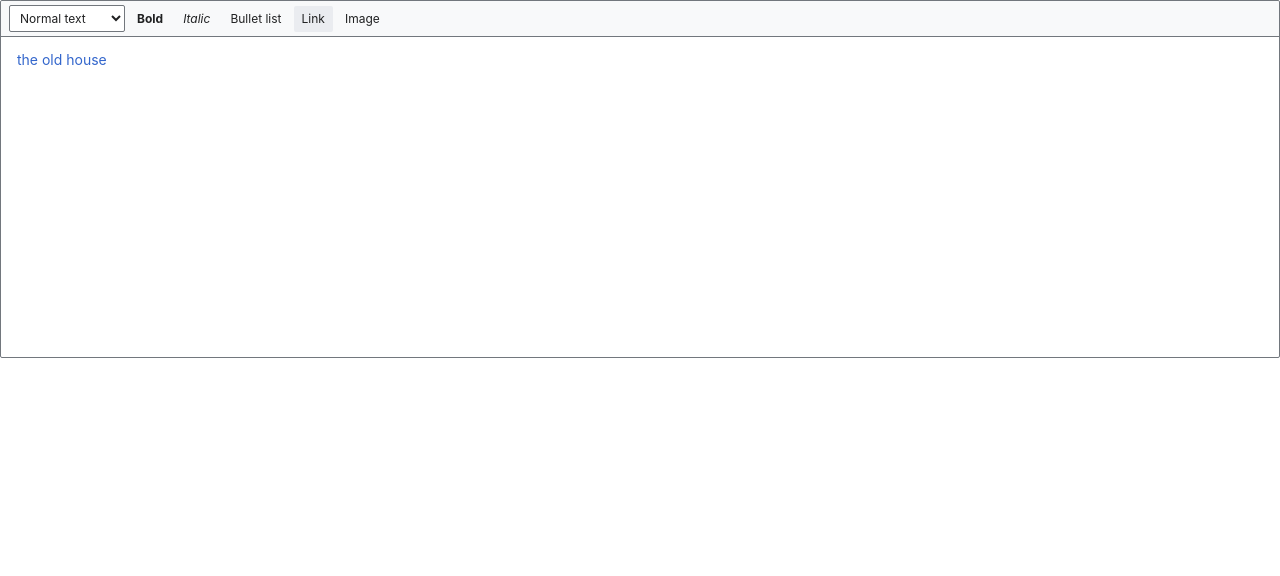
linking to another entry › degrades visibly when the entry a link points at is gone
Click the button "Link". click: (313, 18)
box: [294,6,333,32]
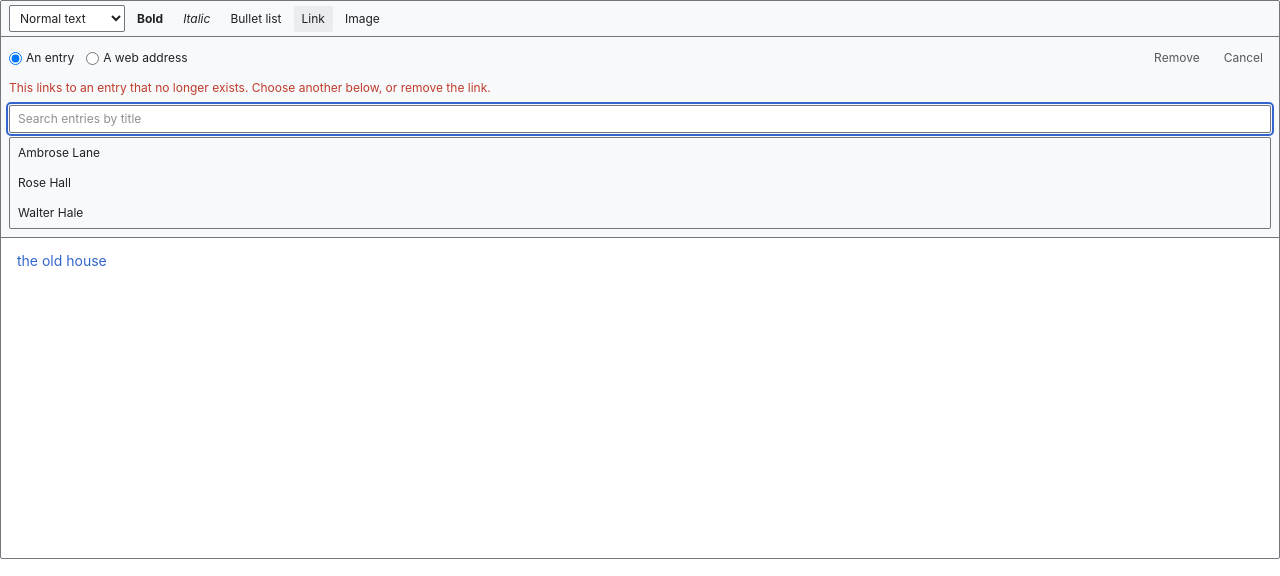
Check: the text "no longer exists" is shown, box [9,80,491,95]
